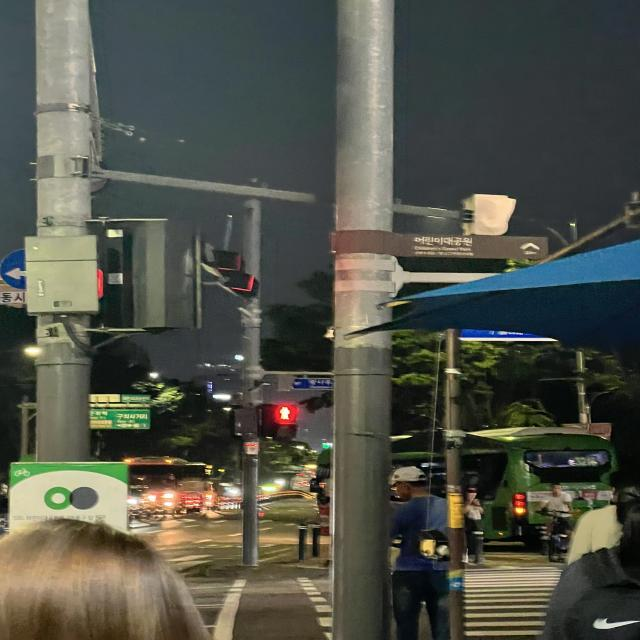crosswalk: (294, 550, 640, 640)
red-light: (261, 399, 310, 457)
